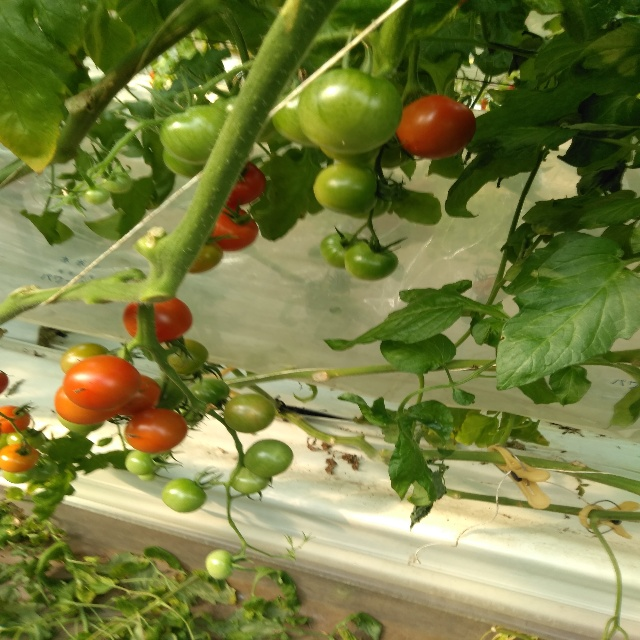l_fully_ripened: (396, 95, 477, 159), (62, 354, 141, 411), (121, 298, 193, 344), (208, 203, 259, 252), (118, 373, 162, 416), (226, 160, 267, 205), (0, 406, 31, 434)
l_green: (297, 69, 402, 155), (160, 105, 226, 164), (313, 163, 380, 216), (273, 86, 319, 148), (344, 239, 398, 282), (223, 394, 275, 433), (243, 439, 293, 479), (161, 339, 208, 374), (347, 182, 391, 219), (60, 343, 110, 375), (162, 478, 207, 513), (162, 148, 208, 181), (320, 233, 361, 269), (188, 235, 225, 273), (371, 133, 410, 169), (188, 377, 229, 406), (230, 463, 268, 494), (320, 147, 379, 165), (205, 550, 234, 580), (125, 448, 157, 475), (6, 428, 44, 449), (59, 415, 105, 432), (99, 171, 132, 194), (3, 465, 36, 484), (83, 185, 111, 205), (136, 471, 154, 482)
l_half_ripened: (124, 409, 189, 453), (54, 384, 121, 425), (0, 444, 39, 473)
